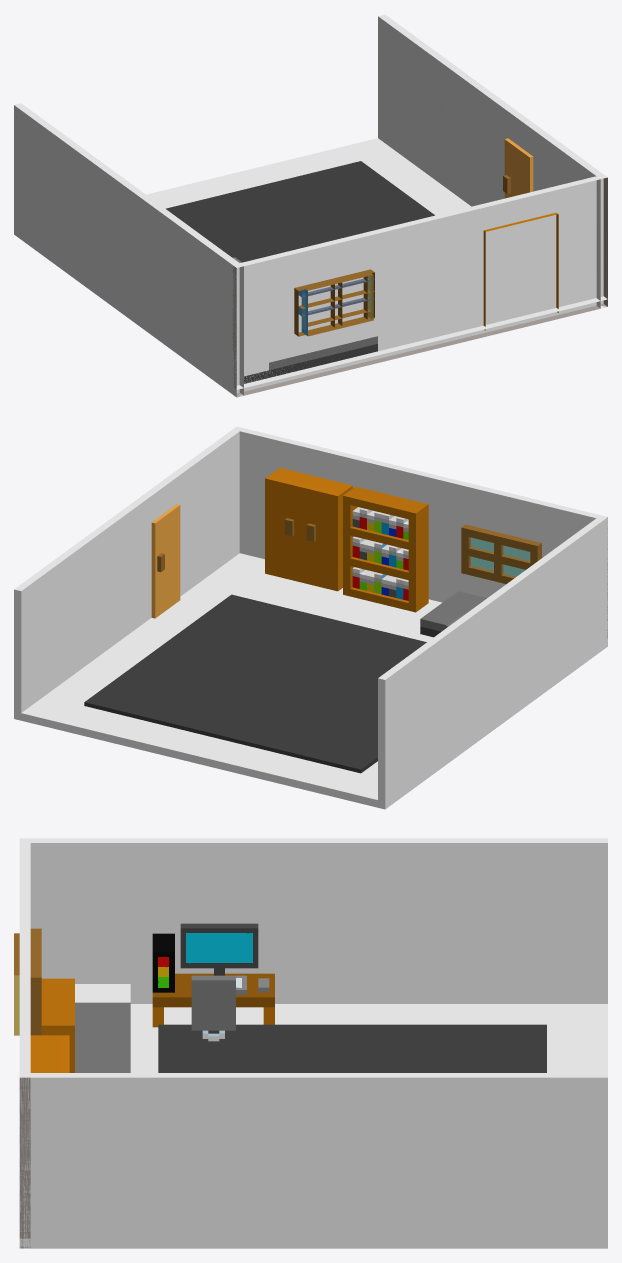
File: kamar MC.gltf
3 views of the same model, one above another, from view 1: azimuth 30°, elevation 25°; view 2: azimuth 150°, elevation 25°; view 3: azimuth 270°, elevation 25° (orthographic). The views are drawn at different scales.
Visible parts, largest first — view 1: wall (×3), platform (×2), cuboid (×2), bed (×2), window (×2); view 2: wall (×3), platform (×2), cuboid (×11), window (×3), bed; view 3: wall (×3), platform (×2), cuboid (×8), bed (×2), window (×2).
Part boxes in pixels (x1,y1,x2,y2): wall (×3): (14, 14, 607, 397); platform (×2): (14, 138, 607, 396); cuboid (×2): (483, 138, 558, 330); bed (×2): (244, 336, 377, 383); window (×2): (298, 270, 374, 336); wall (×3): (14, 426, 607, 808); platform (×2): (14, 553, 607, 809); cuboid (×11): (151, 468, 428, 618); window (×3): (462, 525, 533, 576); bed: (420, 591, 486, 631); wall (×3): (19, 838, 607, 1248); platform (×2): (19, 1004, 607, 1248); cuboid (×8): (30, 923, 274, 1072); bed (×2): (75, 984, 130, 1072); window (×2): (14, 933, 41, 1035).
Size of the model in its own units: 6.38 by 2.12 by 6.69.
4 materials, 4 textured.
